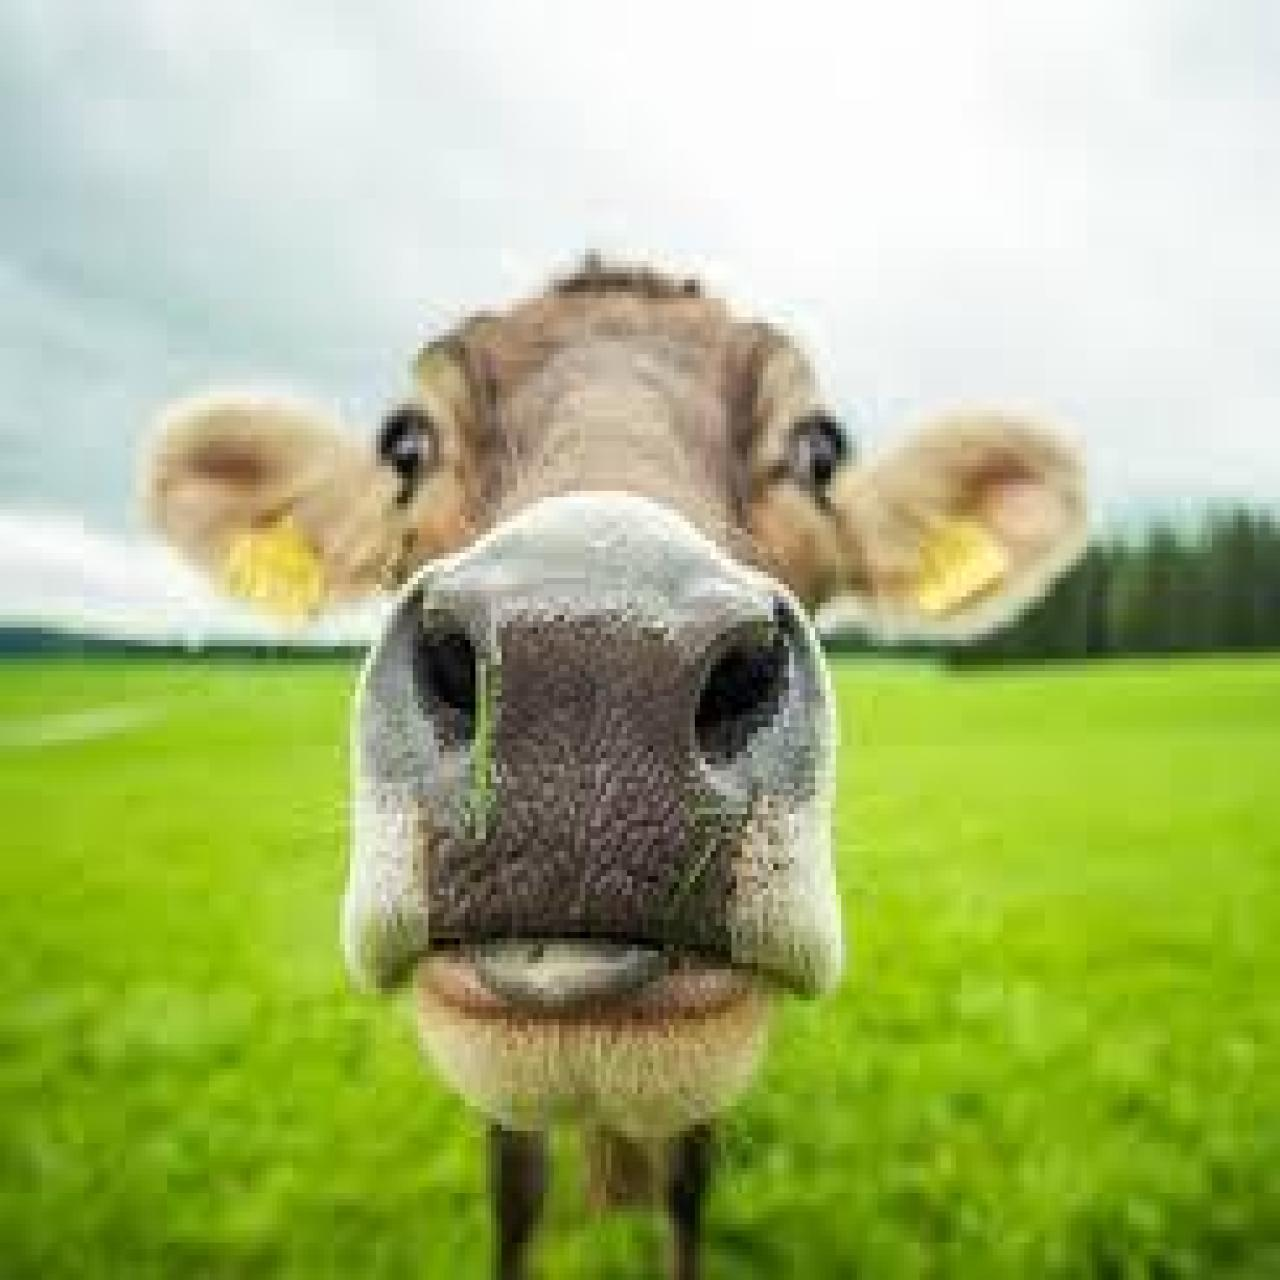cow: (141, 267, 1097, 1280)
